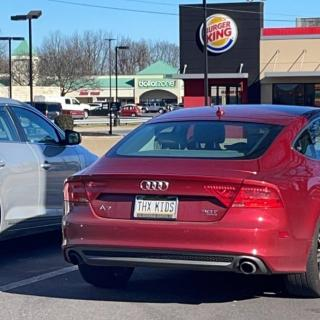license: (134, 196, 179, 220)
